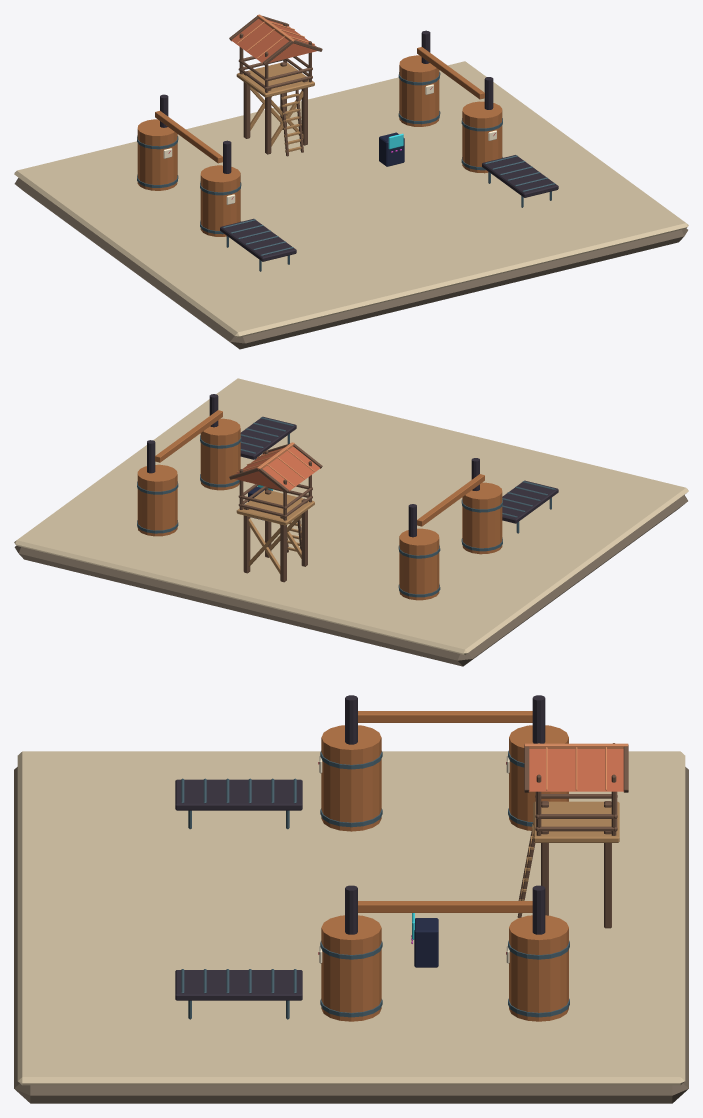
The model's file is world-steampunk.glb.
3 renders of one model, top to bottom at view 1: azimuth 30°, elevation 25°; view 2: azimuth 150°, elevation 25°; view 3: azimuth 270°, elevation 25°, orthographic. The views are drawn at different scales.
Visible parts, largest first — view 1: terrain-top, terrain-stratum, boiler.002, boiler.004, boiler.003, boiler.001, tower-canopy.001, conveyor-belt.001, conveyor-belt.002, tower-deck.001, overhead-pipe, overhead-pipe.001 (+1 smaller); view 2: terrain-top, terrain-stratum, boiler.004, boiler.002, boiler.001, boiler.003, tower-canopy.001, conveyor-belt.001, conveyor-belt.002, tower-deck.001, overhead-pipe, overhead-pipe.001; view 3: terrain-top, terrain-stratum, boiler.001, boiler.003, boiler.004, tower-canopy.001, conveyor-belt.001, conveyor-belt.002, tower-deck.001, boiler.002, overhead-pipe, overhead-pipe.001 (+6 smaller).
Part boxes in pixels (box(x1,y1,x2,y2)): terrain-top: box(14, 61, 688, 337); terrain-stratum: box(14, 178, 687, 349); boiler.002: box(137, 119, 177, 190); boiler.004: box(399, 55, 439, 126); boiler.003: box(462, 101, 502, 173); boiler.001: box(200, 165, 240, 236); tower-canopy.001: box(231, 19, 316, 63); conveyor-belt.001: box(220, 218, 296, 261); conveyor-belt.002: box(482, 155, 558, 197); tower-deck.001: box(236, 62, 314, 97); overhead-pipe: box(155, 111, 222, 163); overhead-pipe.001: box(417, 47, 484, 99); terrain-top: box(14, 378, 688, 654); terrain-stratum: box(14, 495, 687, 666); boiler.004: box(137, 464, 177, 536); boiler.002: box(399, 528, 439, 600); boiler.001: box(462, 482, 502, 554); boiler.003: box(200, 418, 240, 490); tower-canopy.001: box(234, 446, 320, 490); conveyor-belt.001: box(502, 480, 558, 523); conveyor-belt.002: box(240, 416, 296, 459); tower-deck.001: box(236, 490, 314, 525); overhead-pipe: box(417, 474, 484, 526); overhead-pipe.001: box(155, 410, 222, 462); terrain-top: box(17, 751, 685, 1085); terrain-stratum: box(14, 767, 688, 1103); boiler.001: box(321, 725, 381, 831); boiler.003: box(321, 915, 381, 1021); boiler.004: box(509, 915, 568, 1021); tower-canopy.001: box(529, 749, 623, 791); conveyor-belt.001: box(175, 779, 302, 810); conveyor-belt.002: box(175, 970, 302, 1000); tower-deck.001: box(533, 801, 619, 842); boiler.002: box(509, 725, 568, 830); overhead-pipe: box(358, 711, 532, 722); overhead-pipe.001: box(358, 901, 532, 912).
Bounding box in the file's own units: 21 × 5.88 × 18.
